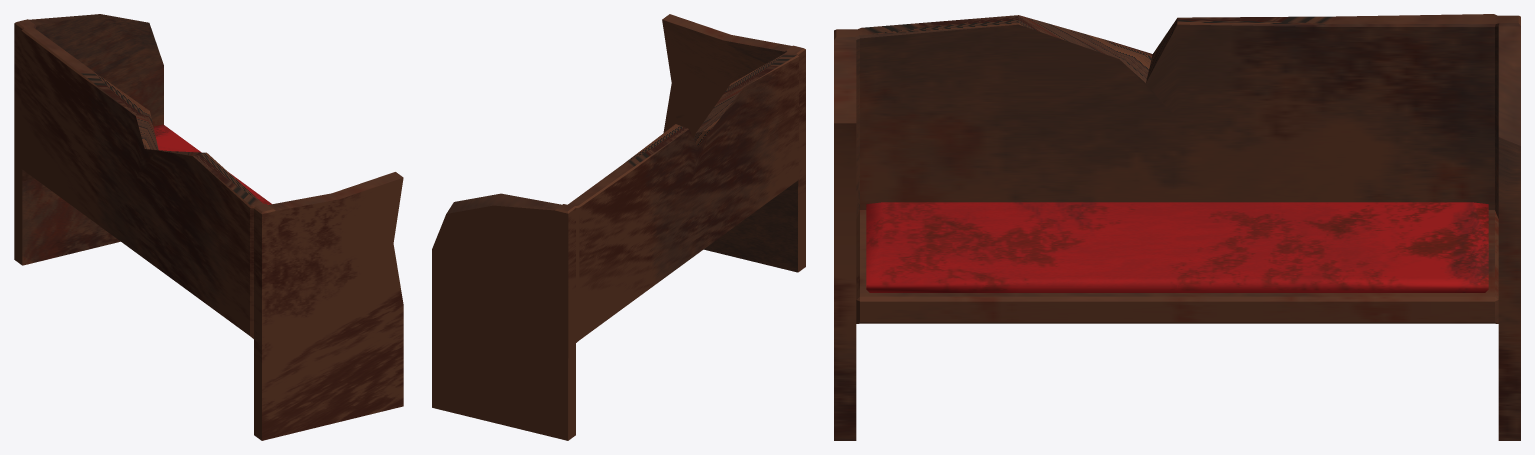
File: pew damaged.obj
3 renders of one model, left to right at view 1: azimuth 30°, elevation 25°; view 2: azimuth 150°, elevation 25°; view 3: azimuth 270°, elevation 25°, orthographic. The views are drawn at different scales.
Visible parts, largest first — view 1: pCube11; view 2: pCube11; view 3: pCube11.
Boxes of the visible parts, x1,y1,x2,y2 form: pCube11: (14,14,403,440); pCube11: (432,14,805,440); pCube11: (834,14,1520,440).
Bounding box in the file's own units: 2.84 × 4.41 × 8.3.
